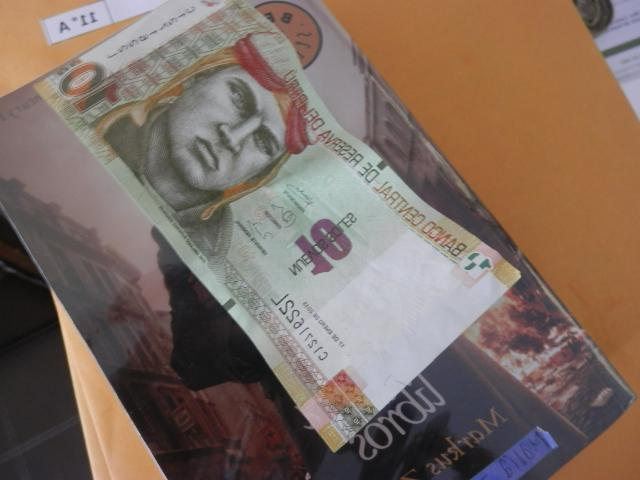B10: (36, 2, 521, 451)
